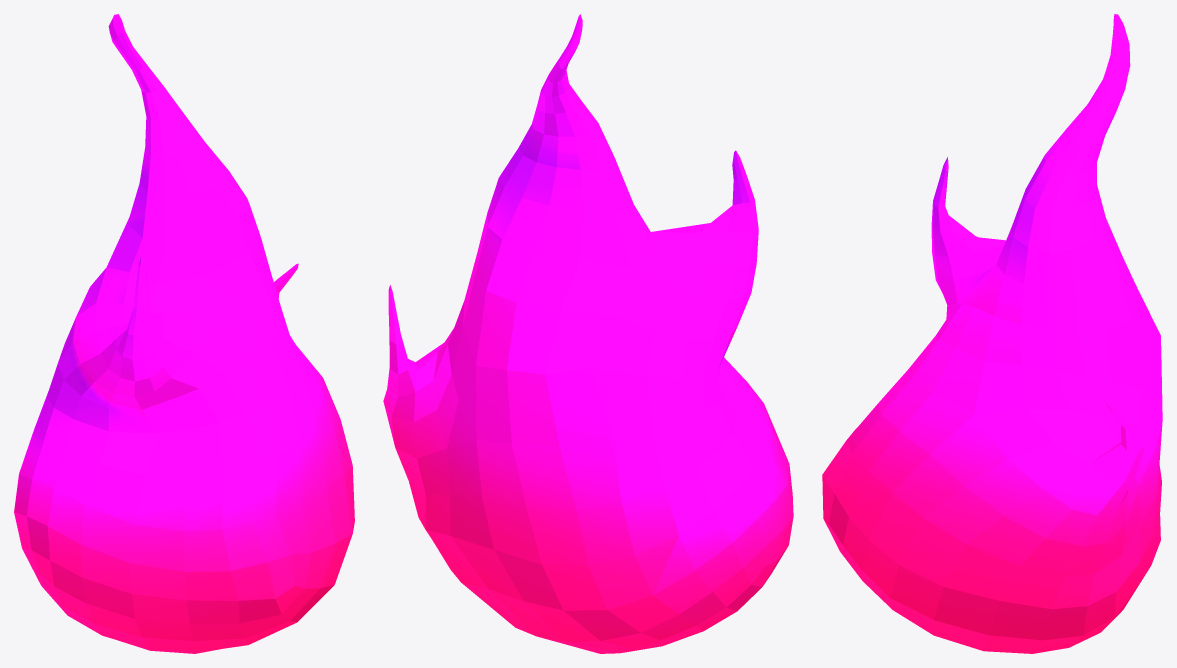
The model's file is Nitro.glb.
3 views of the same model, side by side, from view 1: azimuth 30°, elevation 25°; view 2: azimuth 150°, elevation 25°; view 3: azimuth 270°, elevation 25° (orthographic). The views are drawn at different scales.
Visible parts, largest first — view 1: Nitro; view 2: Nitro; view 3: Nitro.
Boxes of the visible parts, bbox=[...] form: Nitro: bbox=[14, 14, 354, 653]; Nitro: bbox=[383, 14, 793, 653]; Nitro: bbox=[822, 14, 1162, 653].
Size of the model in its own units: 0.9473 by 1.73 by 0.8744.
1 material, 1 textured.
